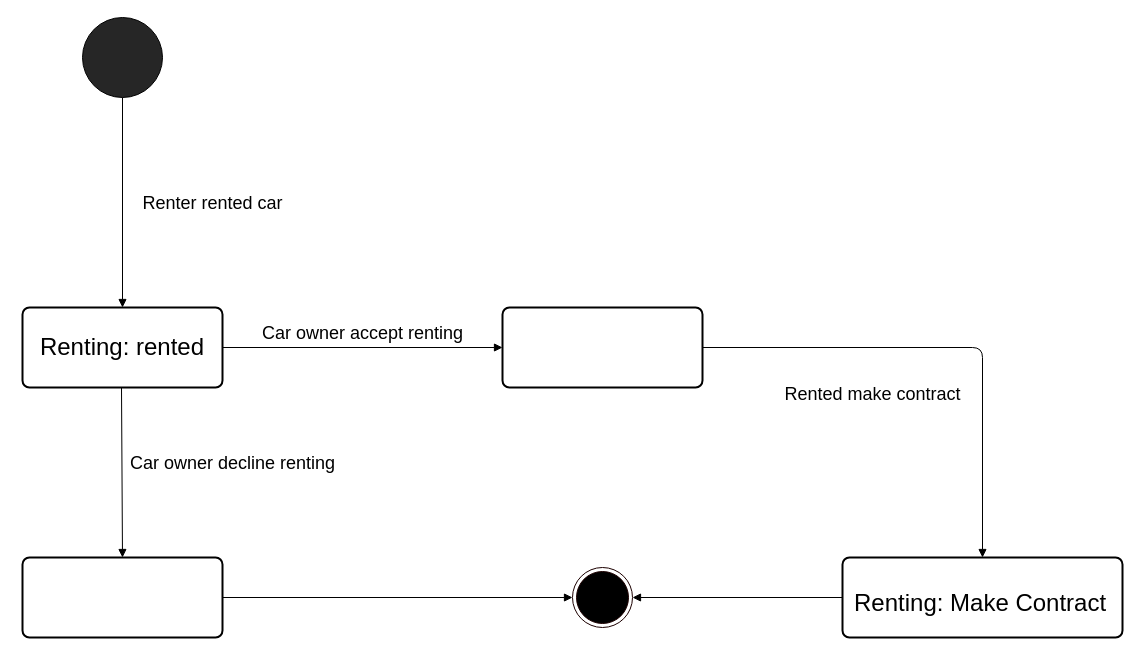
Image size: 1140x656. Some labels were removed from this diagram. Each missing label, with the centre of its shape:
Renting: Accept: the point at 602,347
Renting: Decline: the point at 122,597
